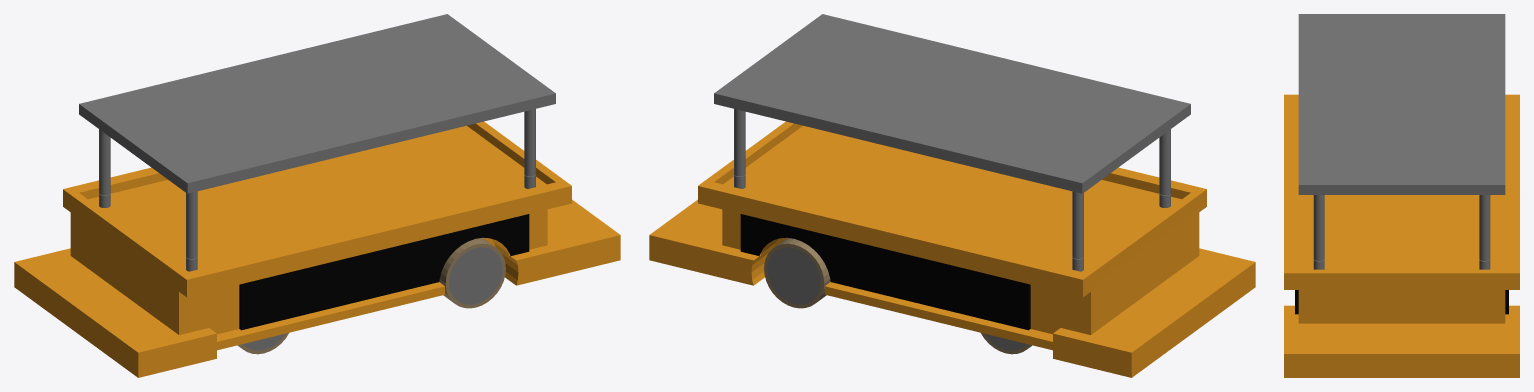
File: AckermannLogistic.glb
3 renders of one model, left to right at view 1: azimuth 30°, elevation 25°; view 2: azimuth 150°, elevation 25°; view 3: azimuth 270°, elevation 25°, orthographic. The views are drawn at different scales.
Parts seen in each view (by area): view 1: chasis, platform, back left tire, back left tire003; view 2: chasis, platform, back left tire001, back left tire002; view 3: chasis, platform.
Boxes of the visible parts, left/top/right/bottom form: chasis: left=14, top=121, right=620, bottom=377; platform: left=79, top=14, right=555, bottom=258; back left tire: left=439, top=238, right=505, bottom=308; back left tire003: left=237, top=333, right=288, bottom=354; chasis: left=649, top=121, right=1255, bottom=377; platform: left=714, top=14, right=1190, bottom=258; back left tire001: left=764, top=238, right=830, bottom=308; back left tire002: left=981, top=333, right=1032, bottom=354; chasis: left=1284, top=94, right=1519, bottom=377; platform: left=1298, top=14, right=1505, bottom=260.
Size of the model in its own units: 2.3 by 0.8825 by 1.03.
